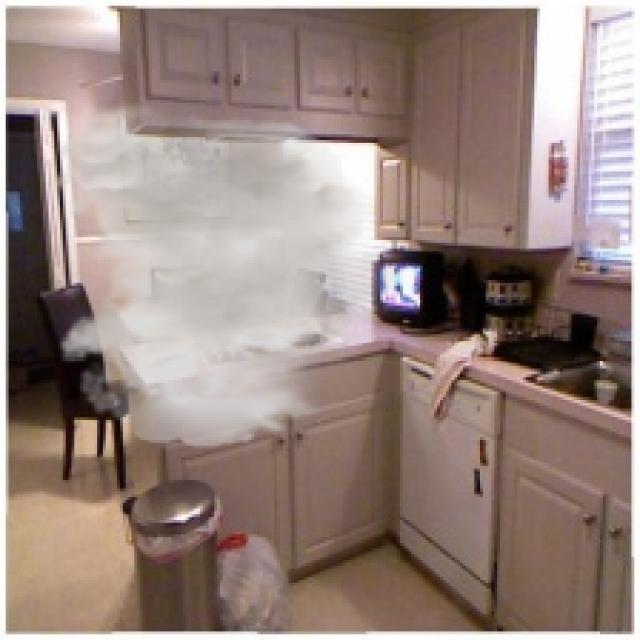Smoke: (49, 102, 418, 448)
